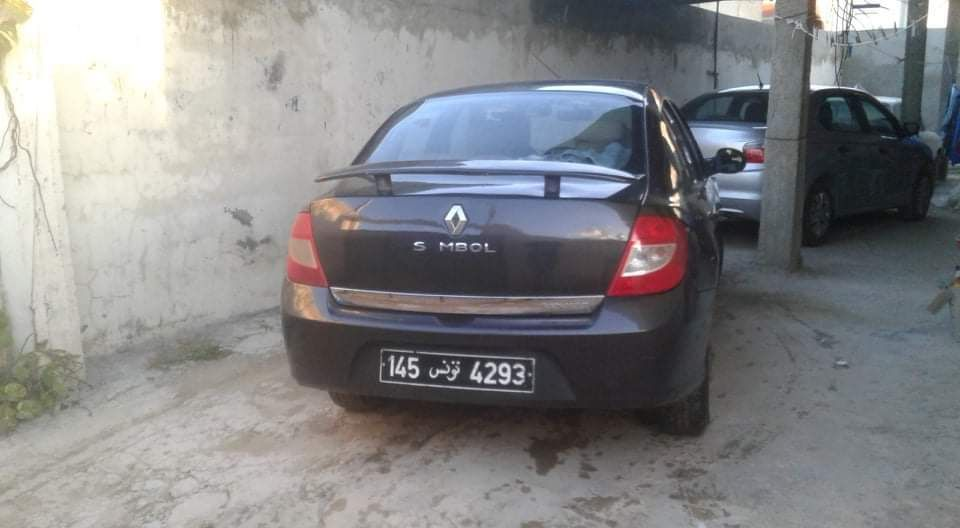LP: (376, 344, 538, 398)
